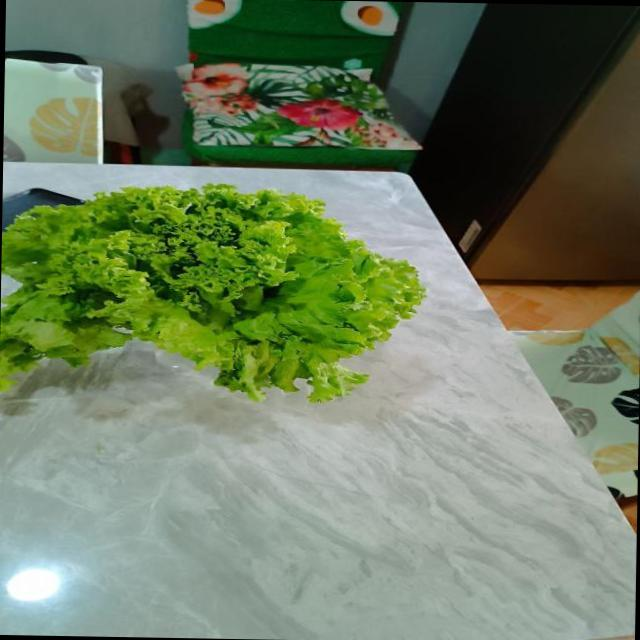Lettuce-Ready-to-Harvest: (0, 184, 424, 401)
